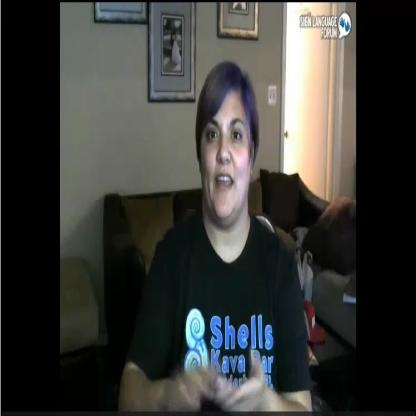NiceToMeetYou: (163, 328, 267, 416)
